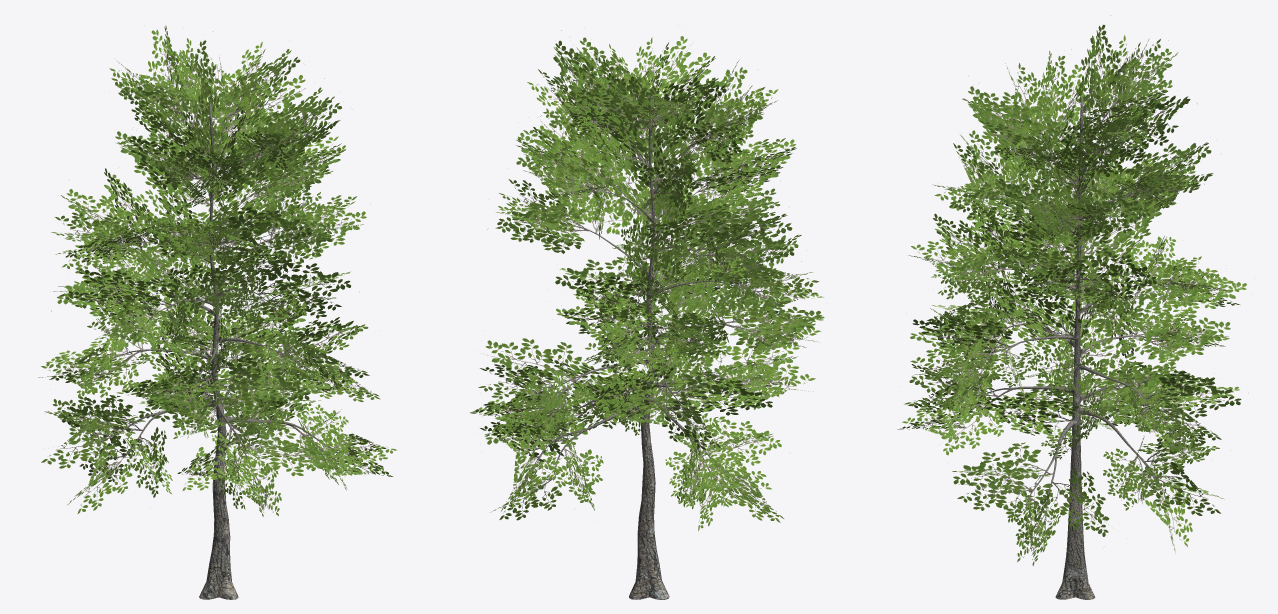
The model's file is tall-tree.lod1.glb.
3 views of the same model, side by side, from view 1: azimuth 30°, elevation 25°; view 2: azimuth 150°, elevation 25°; view 3: azimuth 270°, elevation 25° (orthographic). The views are drawn at different scales.
Visible parts, largest first — view 1: _2_TP23_Leaf_0, _2_TP23_Trunk_0; view 2: _2_TP23_Leaf_0, _2_TP23_Trunk_0; view 3: _2_TP23_Leaf_0, _2_TP23_Trunk_0.
Part boxes in pixels (x1,y1,x2,y2): _2_TP23_Leaf_0: [38, 25, 396, 516]; _2_TP23_Trunk_0: [101, 103, 338, 599]; _2_TP23_Leaf_0: [470, 30, 824, 531]; _2_TP23_Trunk_0: [535, 91, 763, 599]; _2_TP23_Leaf_0: [897, 24, 1246, 565]; _2_TP23_Trunk_0: [972, 97, 1166, 599].
Size of the model in its own units: 16.89 by 26 by 16.51.
2 materials, 2 textured.
